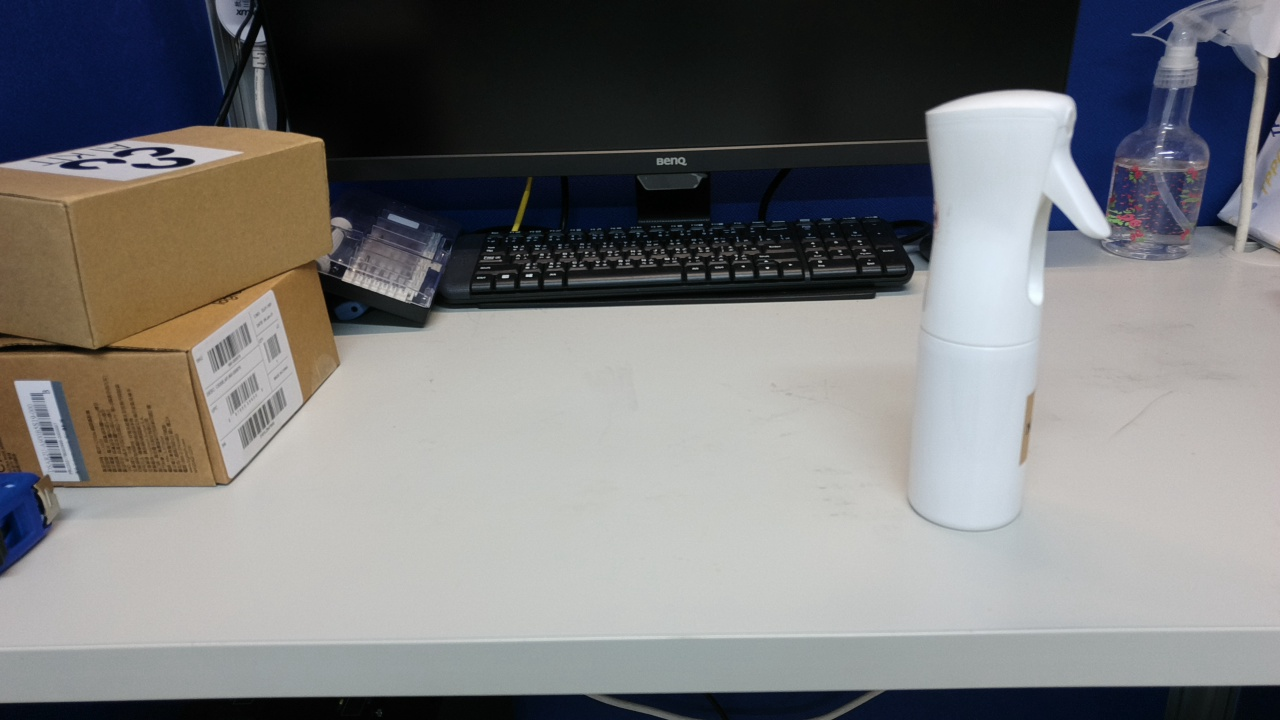long: (526, 580, 899, 648)
